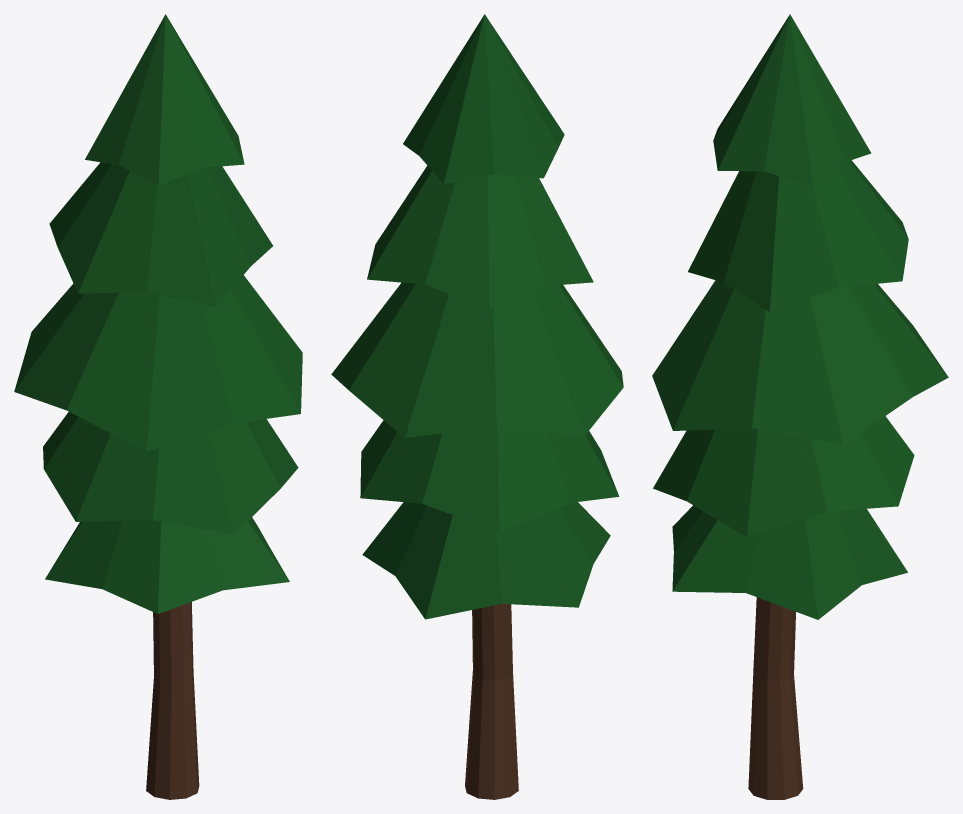
Rendered from pine01__mesh_LOD.fbx.
3 views of the same model, side by side, from view 1: azimuth 30°, elevation 25°; view 2: azimuth 150°, elevation 25°; view 3: azimuth 270°, elevation 25° (orthographic).
Parts seen in each view (by area): view 1: pine01__mesh_LOD0; view 2: pine01__mesh_LOD0; view 3: pine01__mesh_LOD0.
Boxes of the visible parts, bbox=[...] form: pine01__mesh_LOD0: bbox=[14, 14, 302, 799]; pine01__mesh_LOD0: bbox=[331, 14, 623, 799]; pine01__mesh_LOD0: bbox=[652, 14, 948, 799].
Size of what is drawn, in the model's own units: 425 by 1252 by 434.
1 material, 1 textured.
